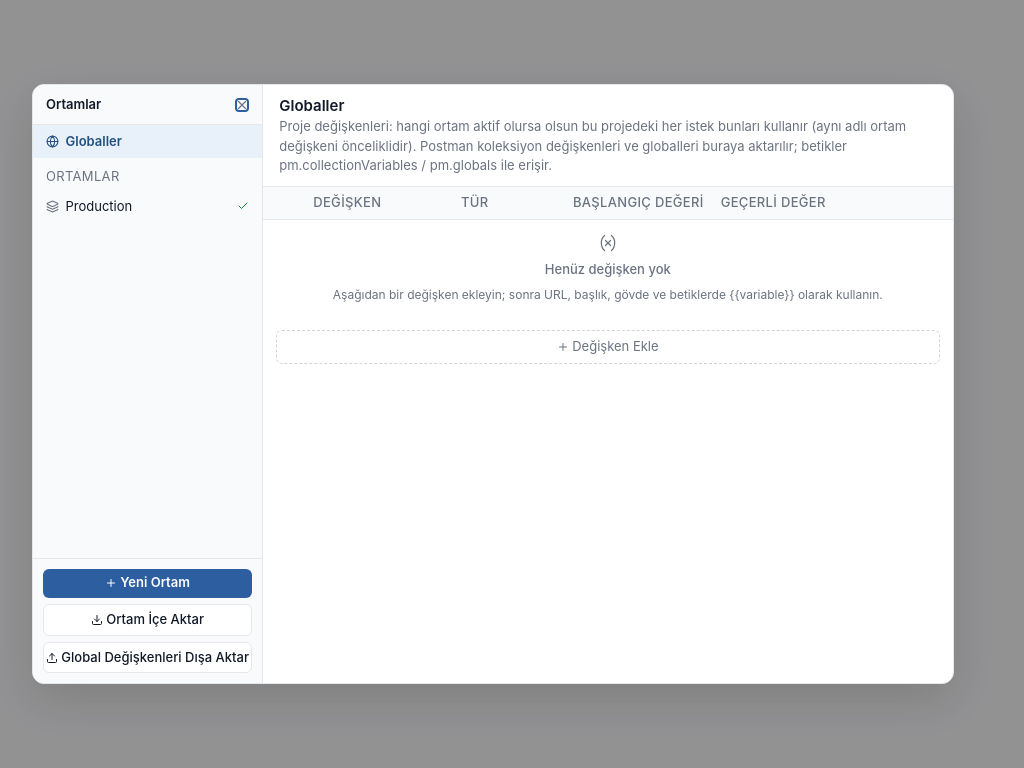
Scenario: EnvironmentModal: secret row › the note is translated
Click the button "Production" at [148, 206], box [33,190,262,222]
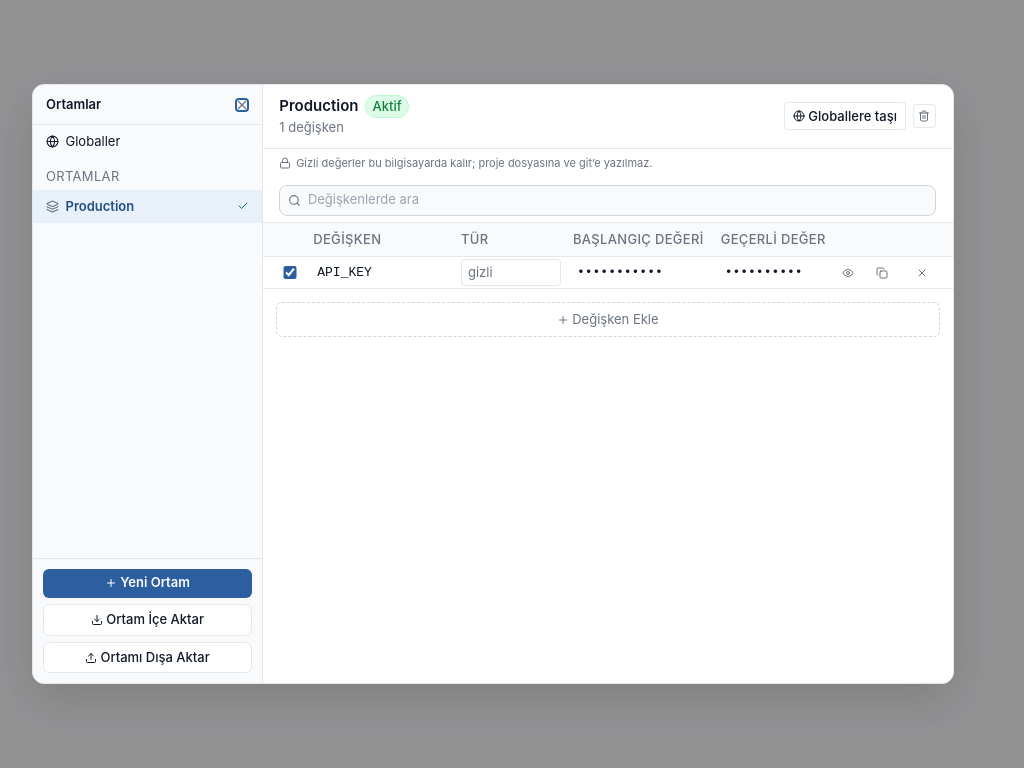
Result: the element with test id "env-secret-note" shows "bu bilgisayarda" at [296,156,652,170]
